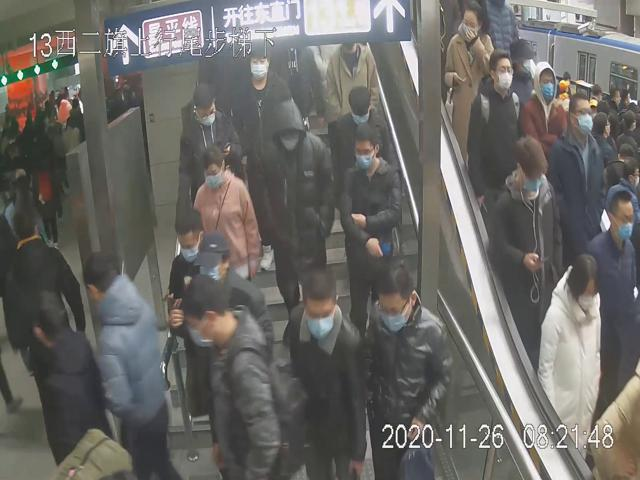person: (185, 275, 284, 478), (364, 262, 454, 476), (280, 268, 366, 479), (532, 250, 607, 480), (490, 133, 564, 350), (257, 98, 335, 287), (337, 125, 403, 321), (545, 89, 604, 270), (194, 232, 275, 361), (467, 44, 523, 229), (193, 141, 259, 281), (445, 4, 495, 166), (169, 206, 216, 374), (328, 81, 391, 201), (227, 51, 293, 153), (177, 81, 236, 194)
